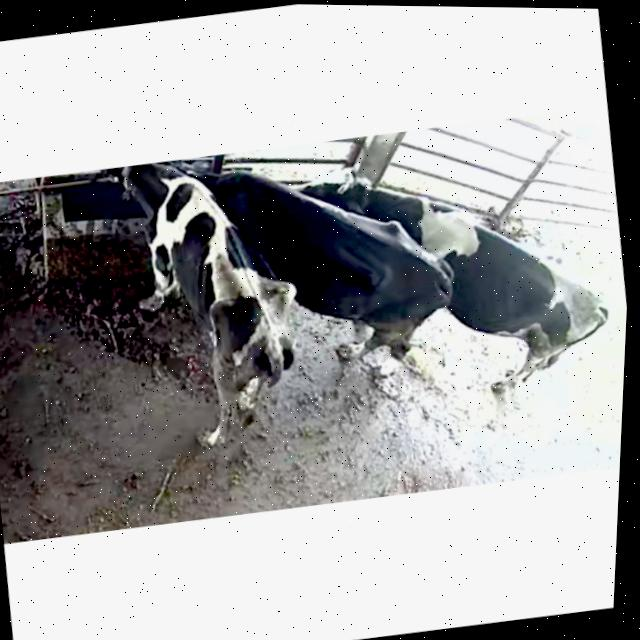drink: (94, 155, 207, 238), (175, 152, 245, 206)
